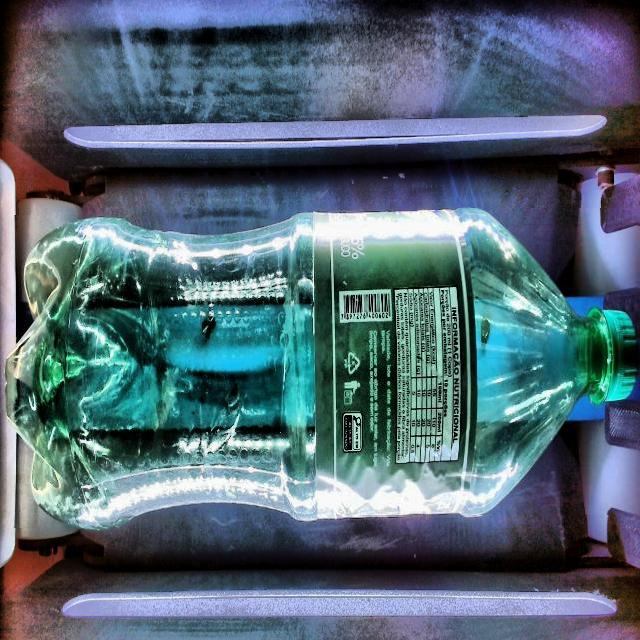bottom: (7, 215, 315, 528)
code: (340, 291, 392, 323)
label: (313, 211, 477, 516)
neck: (458, 209, 638, 515)
